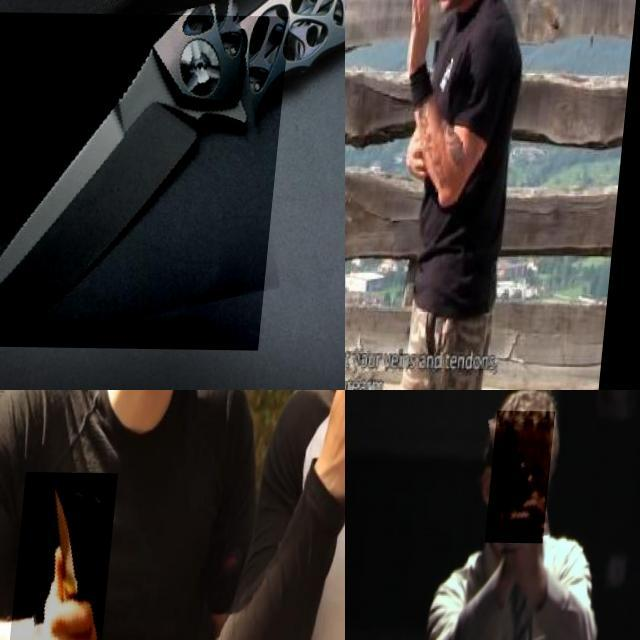-: (0, 11, 294, 349), (19, 471, 125, 640), (345, 314, 391, 390)
gun-knife-thesis - v11 Yolov5 augmented: (488, 410, 556, 542)
